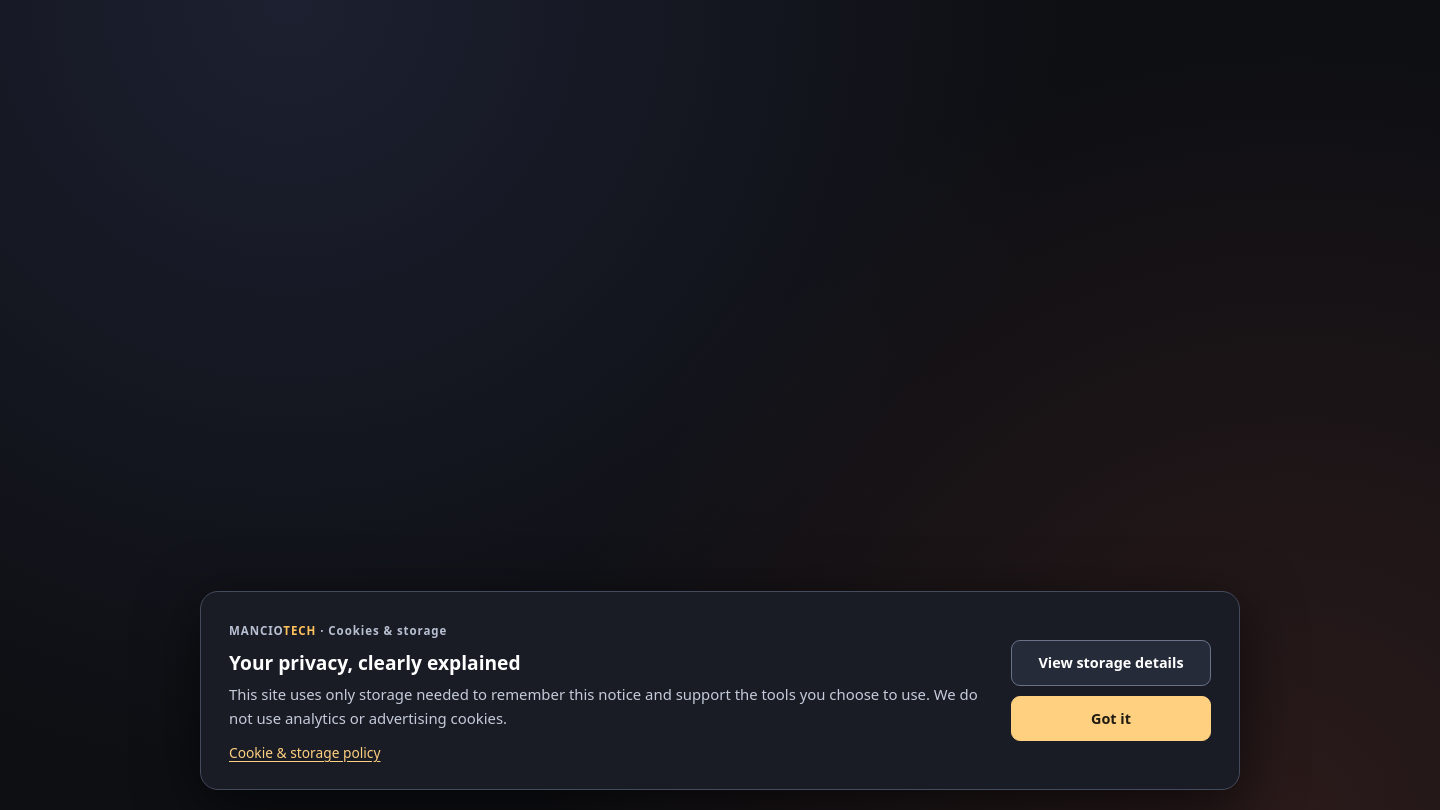
Test: dismisses the information notice, remembers it and can reopen details
Later steps or results of the test are not shown.
Check: the text "We do not use analytics" is shown, box [229, 684, 978, 728]
Click the button "Got it".
click(1111, 718)  # box [1011, 696, 1211, 741]
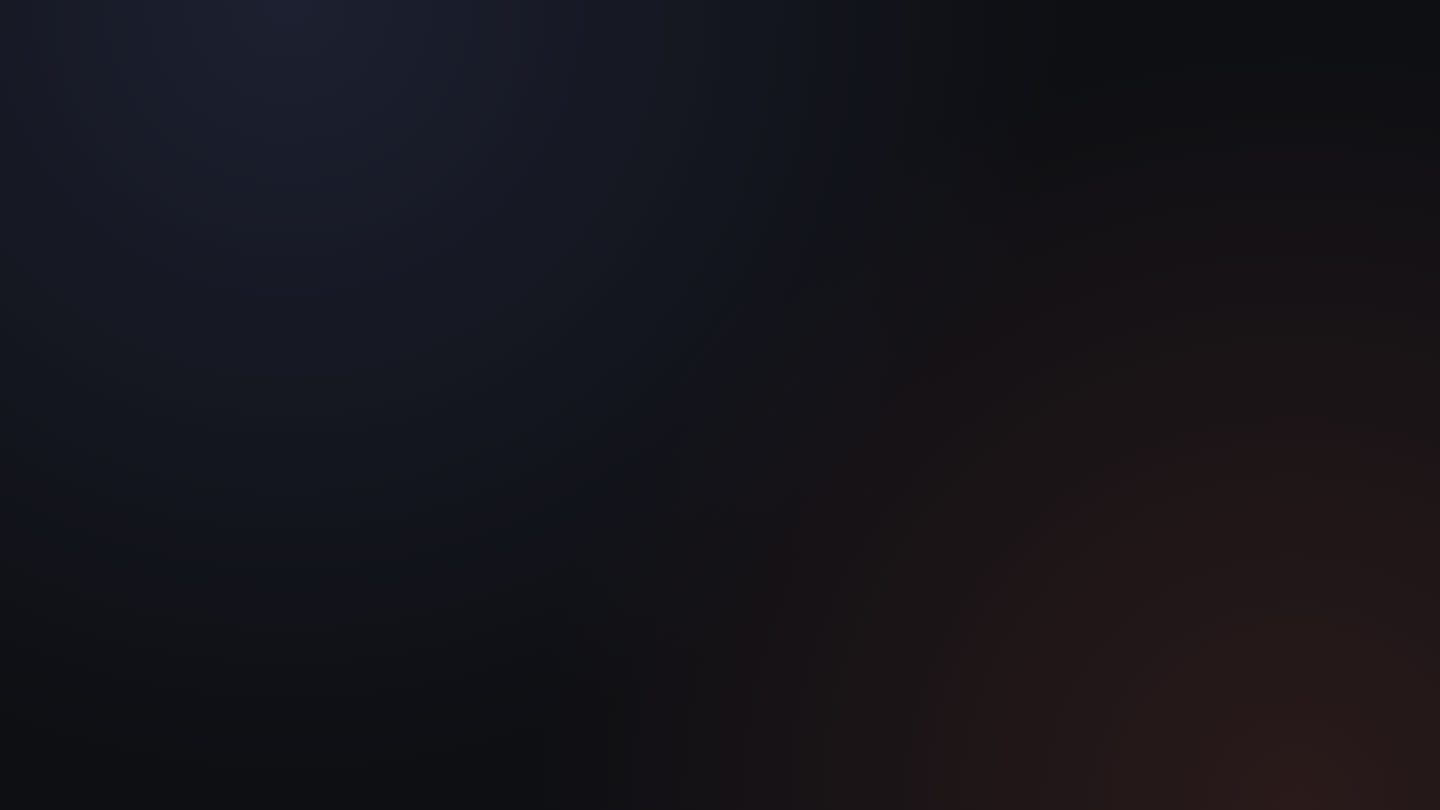
Check: the heading "Your privacy, clearly explained" is gone
